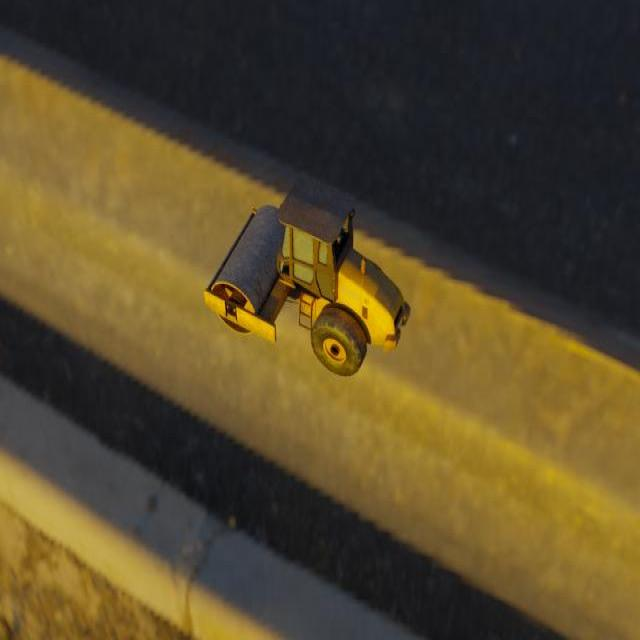Roller: (203, 174, 411, 378)
